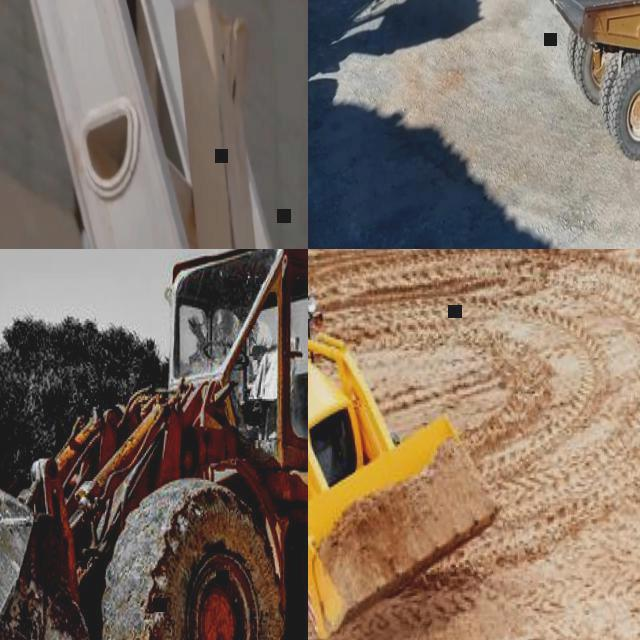machinery: (0, 249, 308, 640), (308, 249, 504, 640), (527, 0, 640, 170)
